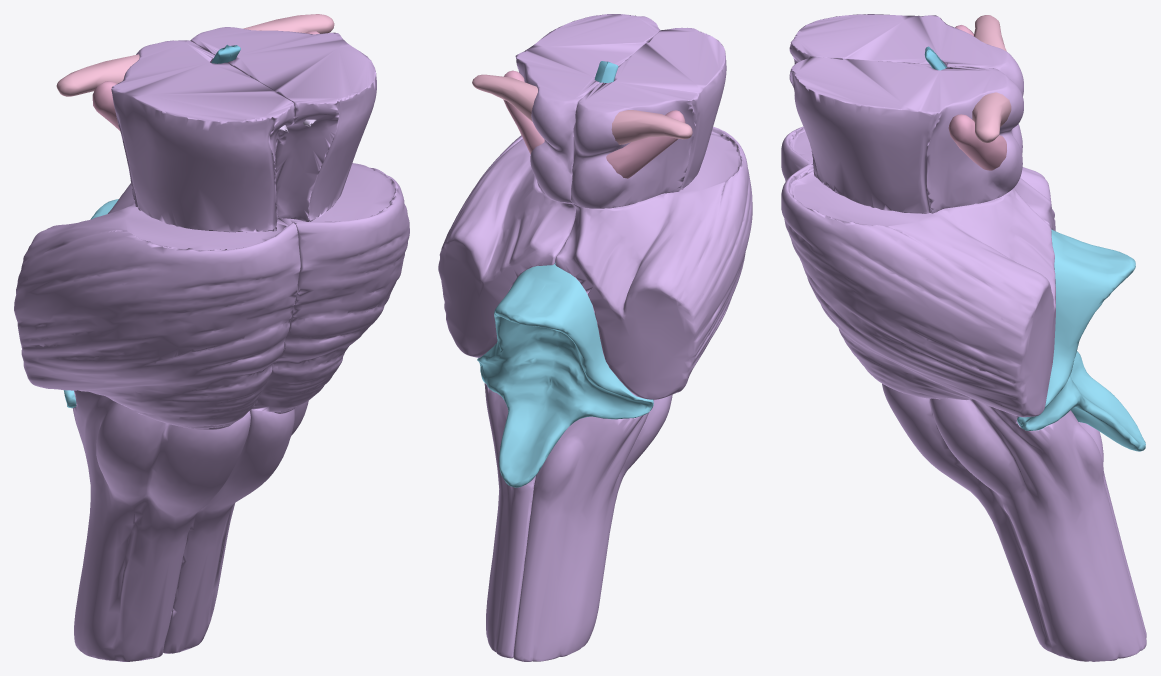
File: z-anatomy-1.2.0-nervous.glb
3 views of the same model, side by side, from view 1: azimuth 30°, elevation 25°; view 2: azimuth 150°, elevation 25°; view 3: azimuth 270°, elevation 25° (orthographic). The views are drawn at different scales.
Visible parts, largest first — view 1: brainstem-pons-right__Pons.r, brainstem-medulla-oblongata-right__Medulla oblongata.r, brainstem-midbrain-right__Midbrain.r, brainstem-pons-left__Pons.l, brainstem-midbrain-left__Midbrain.l, brainstem-medulla-oblongata-left__Medulla oblongata.l, superior-colliculi-superior-colliculus-right__Superior colli, superior-colliculi-superior-colliculus-left__Superior collic, inferior-colliculi-inferior-colliculus-right__Inferior colli; view 2: brainstem-pons-right__Pons.r, brainstem-medulla-oblongata-right__Medulla oblongata.r, fourth-ventricle__Fourth ventricle, brainstem-midbrain-right__Midbrain.r, brainstem-pons-left__Pons.l, brainstem-midbrain-left__Midbrain.l, brainstem-medulla-oblongata-left__Medulla oblongata.l, superior-colliculi-superior-colliculus-right__Superior colli, inferior-colliculi-inferior-colliculus-right__Inferior colli, superior-colliculi-superior-colliculus-left__Superior collic, inferior-colliculi-inferior-colliculus-left__Inferior collic; view 3: brainstem-pons-left__Pons.l, brainstem-medulla-oblongata-left__Medulla oblongata.l, brainstem-midbrain-left__Midbrain.l, fourth-ventricle__Fourth ventricle, brainstem-midbrain-right__Midbrain.r, brainstem-pons-right__Pons.r, inferior-colliculi-inferior-colliculus-left__Inferior collic, superior-colliculi-superior-colliculus-left__Superior collic, superior-colliculi-superior-colliculus-right__Superior colli, brainstem-medulla-oblongata-right__Medulla oblongata.r.
Boxes of the visible parts, x1=… form: brainstem-pons-right__Pons.r: x1=14, y1=183, x2=300, y2=429; brainstem-medulla-oblongata-right__Medulla oblongata.r: x1=72, y1=390, x2=250, y2=661; brainstem-midbrain-right__Midbrain.r: x1=111, y1=40, x2=294, y2=232; brainstem-pons-left__Pons.l: x1=251, y1=163, x2=409, y2=413; brainstem-midbrain-left__Midbrain.l: x1=190, y1=27, x2=376, y2=221; brainstem-medulla-oblongata-left__Medulla oblongata.l: x1=163, y1=400, x2=308, y2=653; superior-colliculi-superior-colliculus-right__Superior colli: x1=56, y1=54, x2=139, y2=96; superior-colliculi-superior-colliculus-left__Superior collic: x1=243, y1=14, x2=334, y2=33; inferior-colliculi-inferior-colliculus-right__Inferior colli: x1=92, y1=81, x2=120, y2=130; brainstem-pons-right__Pons.r: x1=555, y1=127, x2=752, y2=399; brainstem-medulla-oblongata-right__Medulla oblongata.r: x1=513, y1=395, x2=672, y2=661; fourth-ventricle__Fourth ventricle: x1=477, y1=262, x2=653, y2=487; brainstem-midbrain-right__Midbrain.r: x1=571, y1=27, x2=726, y2=208; brainstem-pons-left__Pons.l: x1=438, y1=135, x2=575, y2=357; brainstem-midbrain-left__Midbrain.l: x1=515, y1=14, x2=660, y2=203; brainstem-medulla-oblongata-left__Medulla oblongata.l: x1=484, y1=383, x2=535, y2=658; superior-colliculi-superior-colliculus-right__Superior colli: x1=611, y1=110, x2=692, y2=144; inferior-colliculi-inferior-colliculus-right__Inferior colli: x1=606, y1=110, x2=685, y2=178; superior-colliculi-superior-colliculus-left__Superior collic: x1=472, y1=74, x2=537, y2=121; inferior-colliculi-inferior-colliculus-left__Inferior collic: x1=503, y1=70, x2=544, y2=154; brainstem-pons-left__Pons.l: x1=781, y1=163, x2=1055, y2=417; brainstem-medulla-oblongata-left__Medulla oblongata.l: x1=882, y1=383, x2=1146, y2=661; brainstem-midbrain-left__Midbrain.l: x1=789, y1=56, x2=1023, y2=213; fourth-ventricle__Fourth ventricle: x1=1017, y1=229, x2=1145, y2=451; brainstem-midbrain-right__Midbrain.r: x1=789, y1=14, x2=1023, y2=154; brainstem-pons-right__Pons.r: x1=781, y1=126, x2=1055, y2=231; inferior-colliculi-inferior-colliculus-left__Inferior collic: x1=948, y1=114, x2=1006, y2=170; superior-colliculi-superior-colliculus-left__Superior collic: x1=972, y1=92, x2=1011, y2=143; superior-colliculi-superior-colliculus-right__Superior colli: x1=974, y1=15, x2=1006, y2=51; brainstem-medulla-oblongata-right__Medulla oblongata.r: x1=1078, y1=422, x2=1146, y2=637.
Bounding box in the file's own units: 0.041 × 0.0796 × 0.0444.
